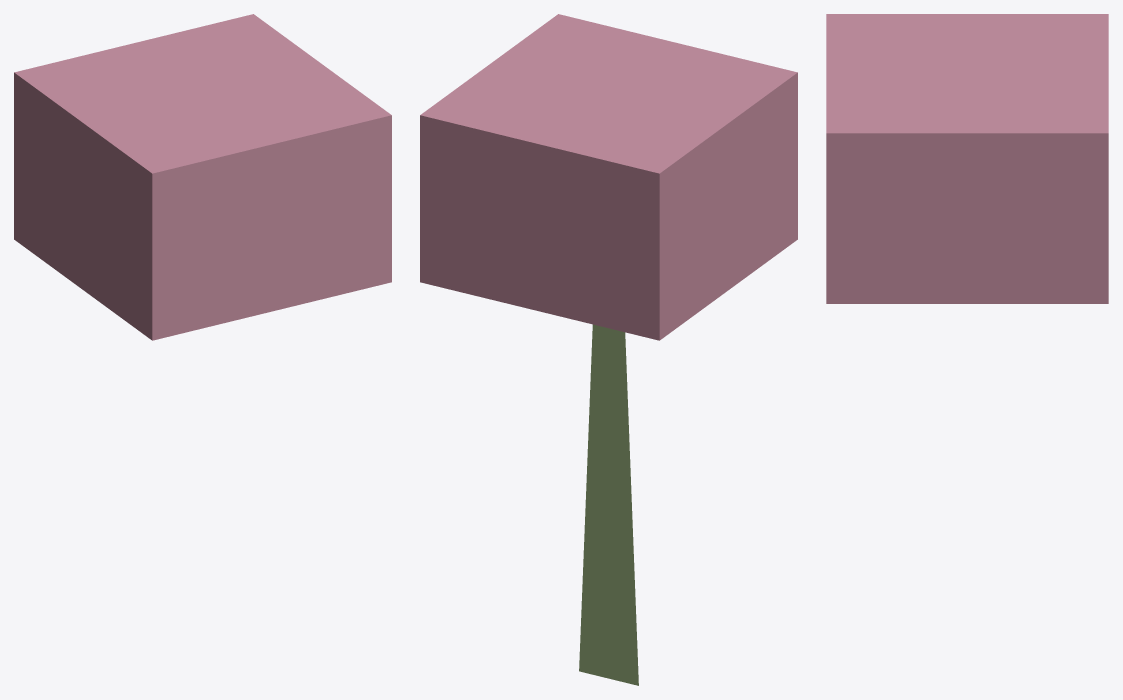
Rendered from flower_v0_far.gltf.
The picture shows the model from 3 angles, left to right: view 1: azimuth 30°, elevation 25°; view 2: azimuth 150°, elevation 25°; view 3: azimuth 270°, elevation 25°; orthographic projection. The views are drawn at different scales.
Visible parts, largest first — view 1: cover; view 2: cover; view 3: cover.
Boxes of the visible parts, x1=… form: cover: x1=14, y1=14, x2=391, y2=340; cover: x1=420, y1=14, x2=797, y2=685; cover: x1=826, y1=14, x2=1108, y2=303.
Size of the model in its own units: 0.12 by 0.28 by 0.12.
